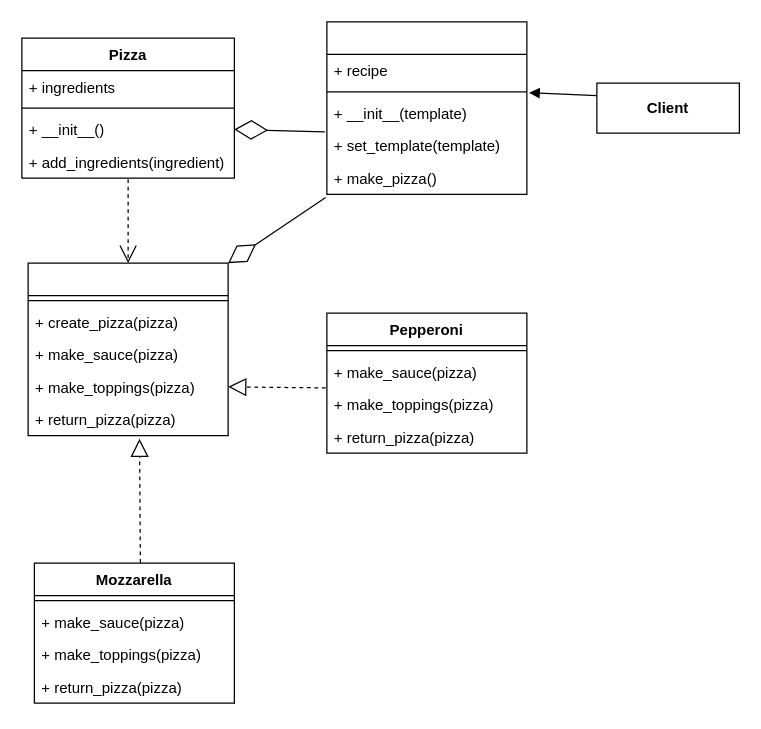
This 761x729 diagram has some shape labels left out. Each missing label, with the box of its shape:
Cook: (326, 21, 527, 194)
PizzaMaker: (27, 262, 228, 436)
